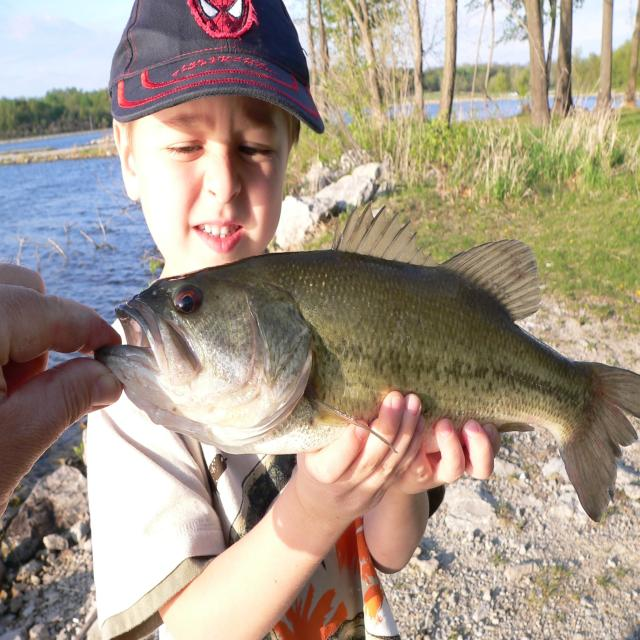Bass - Largemouth: (96, 206, 640, 520)
